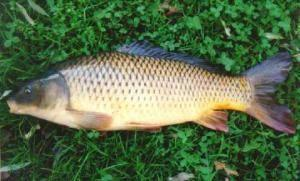Grass Carp: (4, 39, 297, 152)
